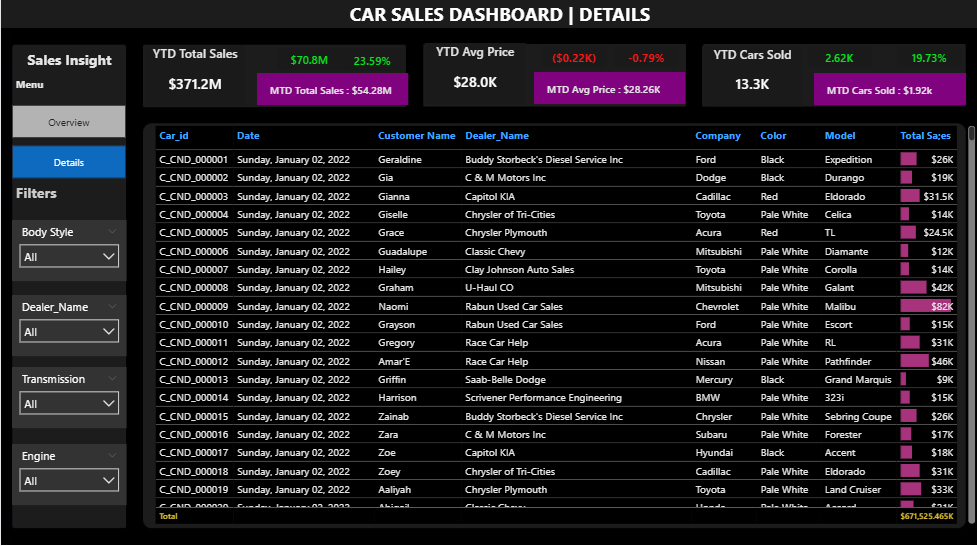

The dashboard page shown, as its layout file describes it:
{"tool":"powerbi","page":{"name":"Details","canvas":[1280,720],"ordinal":1},"visuals":[{"type":"cardVisual","fields":{"Data":["car_data.Sales Difference"]},"box":[356.7,61.7,95,38.3],"z":0},{"type":"cardVisual","fields":{"Data":["car_data.YoY Sales Growth"]},"box":[438.3,61.7,95,41.7],"z":1000},{"type":"cardVisual","fields":{"Data":["car_data.MTD KPI"]},"box":[335,100,198.3,41.7],"z":2000},{"type":"cardVisual","title":"YTD Total Sales","fields":{"Data":["car_data.YTD Total Sales"]},"box":[188.3,63.3,131.7,80],"z":3000},{"type":"cardVisual","title":"YTD Avg Price","fields":{"Data":["car_data.YTD Avg Price"]},"box":[555,60,131.7,80],"z":4000},{"type":"cardVisual","fields":{"Data":["car_data.Avg Price Diff"]},"box":[702.7,59,95,38.9],"z":5000},{"type":"cardVisual","fields":{"Data":["car_data.YoY Avg Price Growth"]},"box":[797.8,59,95,38.9],"z":6000},{"type":"cardVisual","fields":{"Data":["car_data.MTD Avg Price KPI"]},"box":[698.3,98.3,198.3,41.7],"z":7000},{"type":"cardVisual","title":"YTD Cars Sold","fields":{"Data":["car_data.YTD Car Sold"]},"box":[917.3,64.8,132.5,79.2],"z":8000},{"type":"cardVisual","fields":{"Data":["car_data.Cars Sold Difference"]},"box":[1049.8,59,95,38.9],"z":9000},{"type":"cardVisual","fields":{"Data":["car_data.YoY Car Sold Growth"]},"box":[1167.8,59,95,38.9],"z":10000},{"type":"cardVisual","fields":{"Data":["car_data.MTD Cars Sold KPI"]},"box":[1064.2,99.4,198.7,41.8],"z":11000},{"type":"textbox","box":[452.2,0,465.1,44.6],"z":17000},{"type":"slicer","fields":{"Values":["car_data.Body Style"]},"box":[14.3,291.4,150.2,80.4],"z":18000},{"type":"slicer","fields":{"Values":["car_data.Dealer_Name"]},"box":[14.3,389.7,150.2,80.4],"z":19000},{"type":"slicer","fields":{"Values":["car_data.Transmission"]},"box":[14.3,484.5,150.2,80.4],"z":20000},{"type":"slicer","fields":{"Values":["car_data.Engine"]},"box":[14.3,584.6,150.2,80.4],"z":21000},{"type":"textbox","box":[14.3,237.8,150.2,37.5],"z":22000},{"type":"tableEx","fields":{"Values":["car_data.Car_id","car_data.Date","car_data.Customer Name","car_data.Dealer_Name","car_data.Company","car_data.Color","car_data.Model","Sum(car_data.Price ($))"]},"box":[195.8,164.2,1084.3,531.4],"z":22001},{"type":"textbox","box":[14.4,64.8,149.8,40.3],"z":22002},{"type":"textbox","box":[14.4,99.4,115.2,40.3],"z":22003},{"type":"pageNavigator","box":[14.4,141.1,149.8,96.5],"z":22004}]}

Visuals, with their boxes in screenshot pixels (x1, y1, x2, y2), scaled from the page's 1280x720 canvas onto the 977x546 screenshot:
cardVisual - car_data.Sales Difference: select_region(272, 47, 345, 76)
cardVisual - car_data.YoY Sales Growth: select_region(335, 47, 407, 78)
cardVisual - car_data.MTD KPI: select_region(256, 76, 407, 107)
"YTD Total Sales" cardVisual: select_region(144, 48, 244, 109)
"YTD Avg Price" cardVisual: select_region(424, 46, 524, 106)
cardVisual - car_data.Avg Price Diff: select_region(536, 45, 609, 74)
cardVisual - car_data.YoY Avg Price Growth: select_region(609, 45, 681, 74)
cardVisual - car_data.MTD Avg Price KPI: select_region(533, 75, 684, 106)
"YTD Cars Sold" cardVisual: select_region(700, 49, 801, 109)
cardVisual - car_data.Cars Sold Difference: select_region(801, 45, 874, 74)
cardVisual - car_data.YoY Car Sold Growth: select_region(891, 45, 964, 74)
cardVisual - car_data.MTD Cars Sold KPI: select_region(812, 75, 964, 107)
textbox: select_region(345, 0, 700, 34)
slicer - car_data.Body Style: select_region(11, 221, 126, 282)
slicer - car_data.Dealer_Name: select_region(11, 296, 126, 356)
slicer - car_data.Transmission: select_region(11, 367, 126, 428)
slicer - car_data.Engine: select_region(11, 443, 126, 504)
textbox: select_region(11, 180, 126, 209)
tableEx - car_data.Car_id x car_data.Date: select_region(149, 125, 976, 527)
textbox: select_region(11, 49, 125, 80)
textbox: select_region(11, 75, 99, 106)
pageNavigator: select_region(11, 107, 125, 180)
